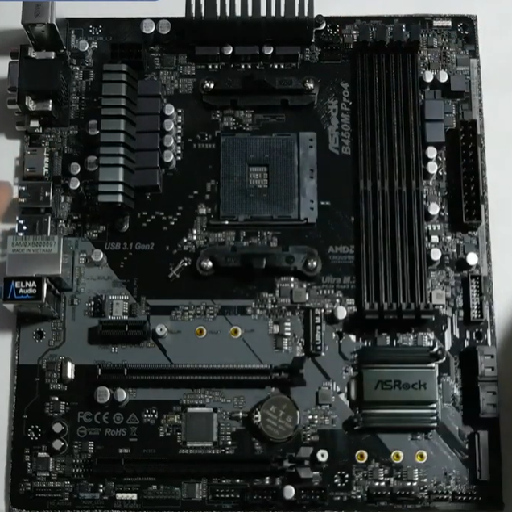CPU: (199, 107, 326, 236)
GPU: (88, 444, 321, 487), (93, 351, 307, 395)
MOTHERBOARD: (11, 3, 509, 512)
RAM: (339, 28, 445, 324)
SSD: (294, 301, 332, 358)
